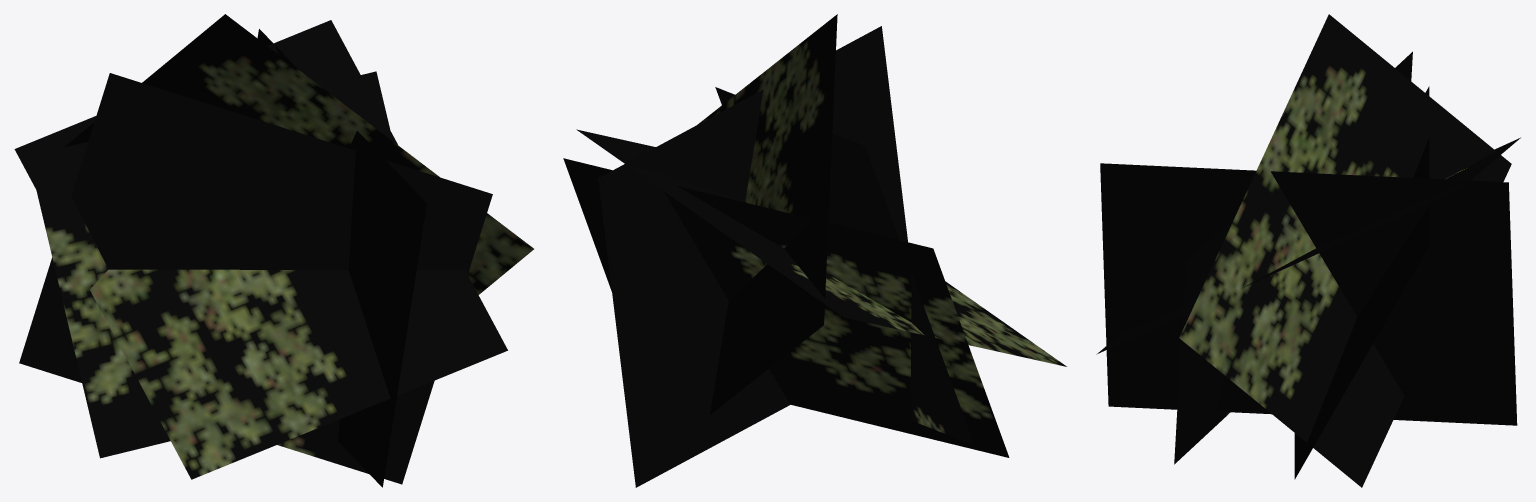
The model's file is pine_leaves_brown.obj.
The picture shows the model from 3 angles, left to right: view 1: azimuth 30°, elevation 25°; view 2: azimuth 150°, elevation 25°; view 3: azimuth 270°, elevation 25°; orthographic projection. The views are drawn at different scales.
Parts seen in each view (by area): view 1: plane; view 2: plane; view 3: plane.
Boxes of the visible parts, <box> form: plane: <box>14,14,533,487</box>; plane: <box>563,14,1066,487</box>; plane: <box>1096,14,1520,487</box>.
Bounding box in the file's own units: 1.85 × 1.93 × 1.82.
